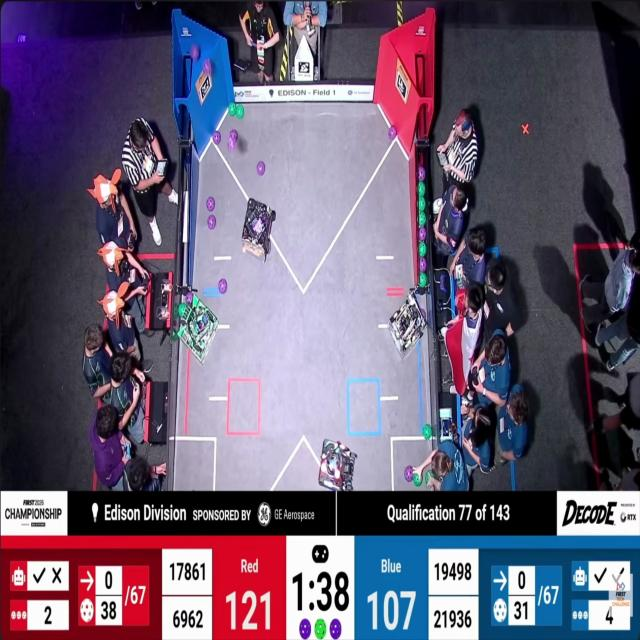artifact_green: (314, 619, 327, 640), (329, 619, 342, 640), (203, 58, 212, 78), (405, 465, 413, 482), (423, 424, 432, 439), (178, 303, 187, 317), (418, 227, 427, 241), (418, 181, 426, 196), (219, 279, 227, 294), (185, 292, 194, 305), (419, 258, 427, 272), (236, 105, 244, 119), (419, 273, 427, 287), (413, 474, 422, 486), (419, 242, 426, 257), (418, 166, 425, 181), (419, 212, 426, 226), (229, 103, 236, 116), (419, 196, 425, 211), (425, 470, 431, 482), (428, 470, 435, 478), (172, 332, 178, 341), (174, 304, 178, 315), (426, 272, 429, 285)
artifact_purple: (299, 619, 311, 639), (330, 619, 341, 639), (404, 466, 414, 482), (203, 59, 212, 75), (191, 44, 200, 60), (440, 275, 447, 293), (219, 279, 227, 294), (208, 215, 216, 230), (207, 197, 215, 212), (419, 258, 427, 272), (257, 162, 265, 176), (389, 126, 397, 140), (418, 166, 425, 181), (213, 131, 221, 144), (228, 136, 236, 149), (419, 227, 426, 241), (230, 129, 238, 140), (186, 292, 193, 304), (421, 308, 426, 321)
